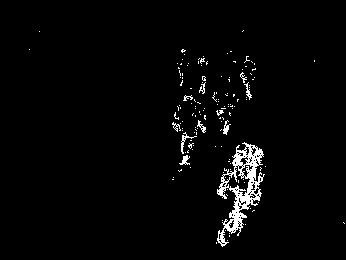person: (216, 139, 263, 249), (174, 89, 206, 169)
